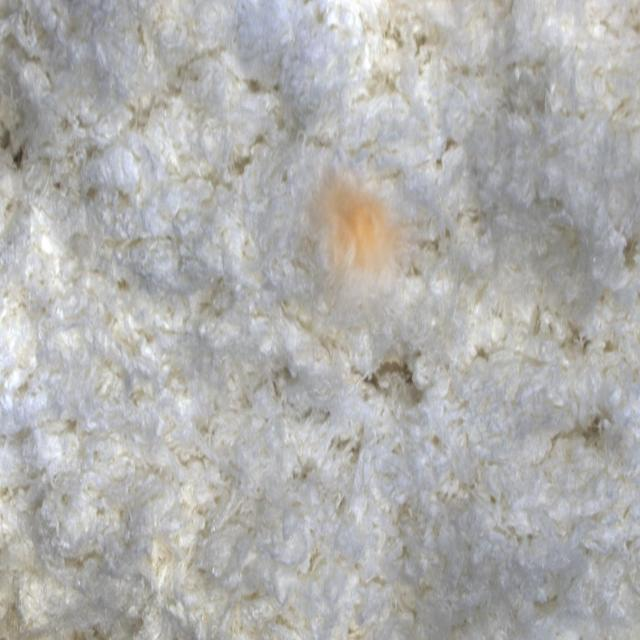dust: (294, 165, 424, 334)
